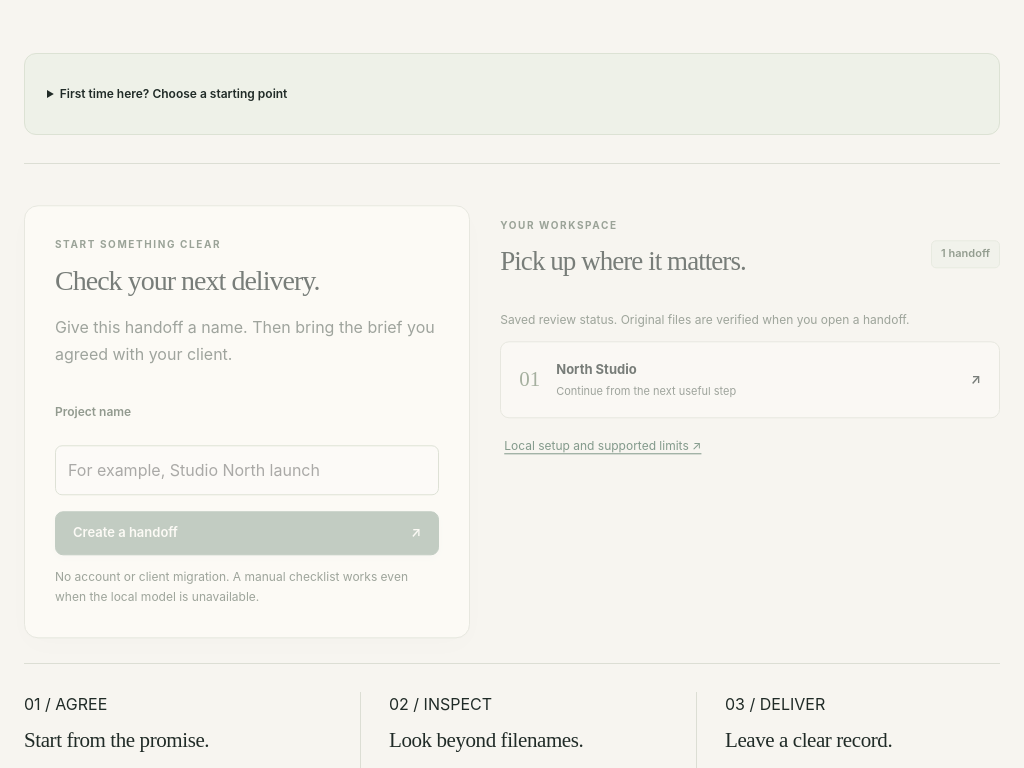
Test case: Human review boundaries › keeps a failed technical finding in client preview despite a satisfied human assessment
The width and height of the screenshot is (1024, 768).
(page scrolled)
Click the button with aria-label "North Studio ↗" at (596, 367), box [500,339,1000,416]
(page scrolled)
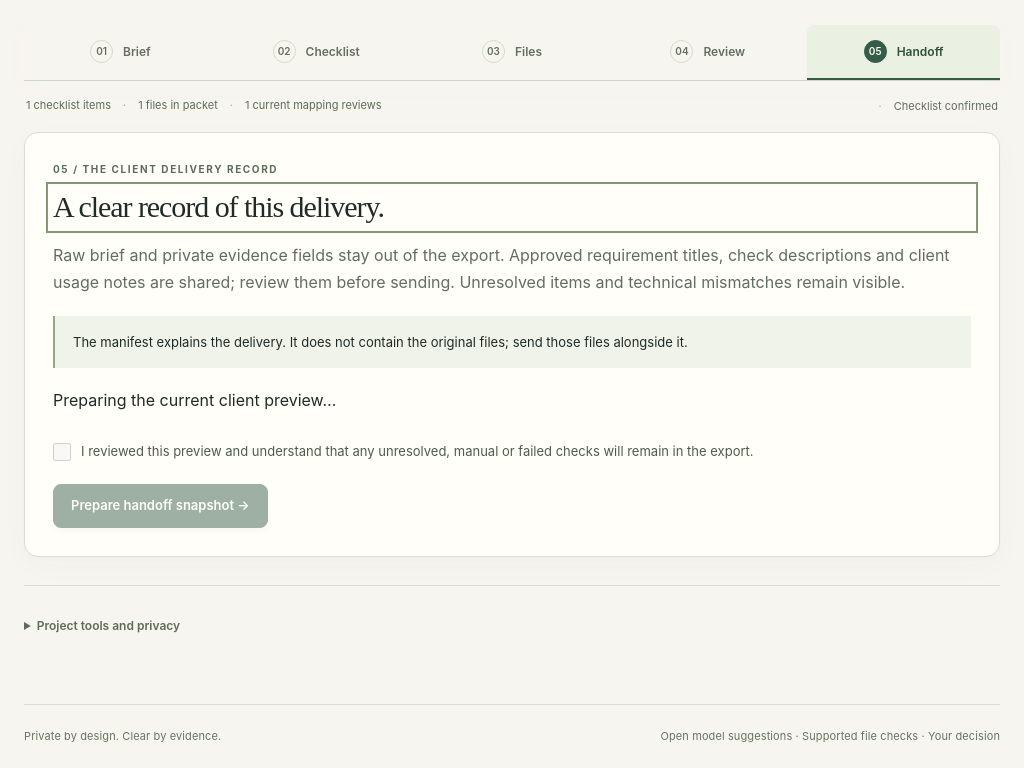
Click the button "05 Handoff" at (904, 53), box [807,25,1000,80]
(page scrolled)
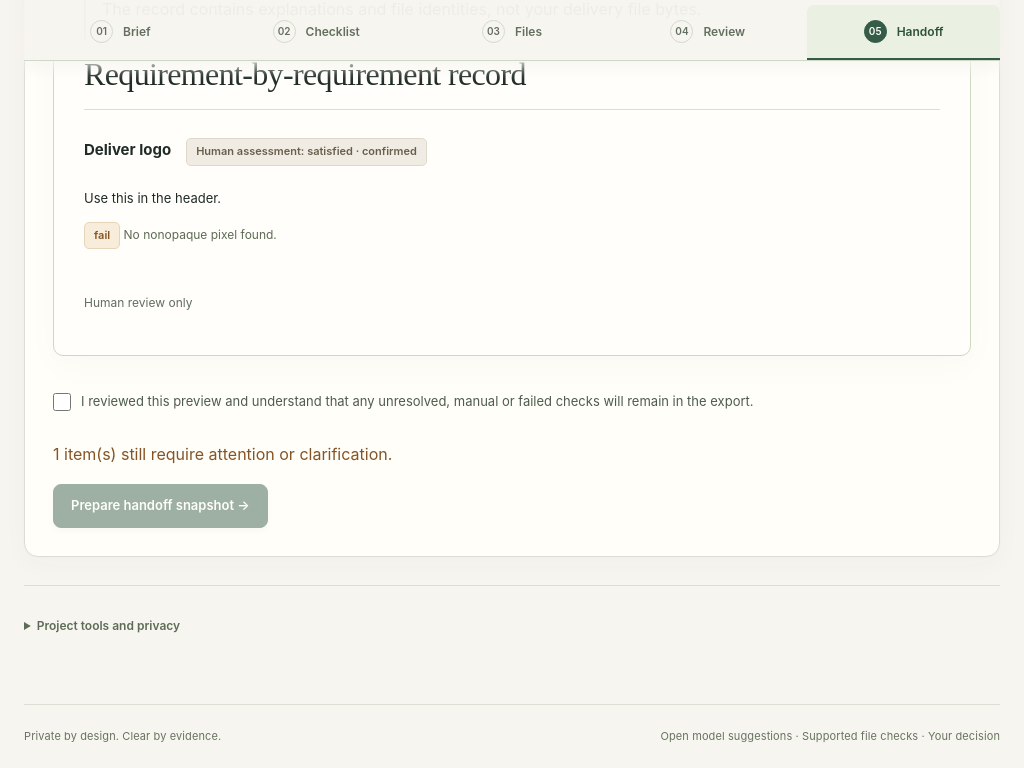
Check: the button "Prepare handoff snapshot →" is disabled, box [53,484,268,528]
Check: the text "fail No nonopaque pixel found." is shown, box [84,222,277,249]
Check: the text "1 item(s) still require attention or clarification." is shown, box [53,444,392,464]
